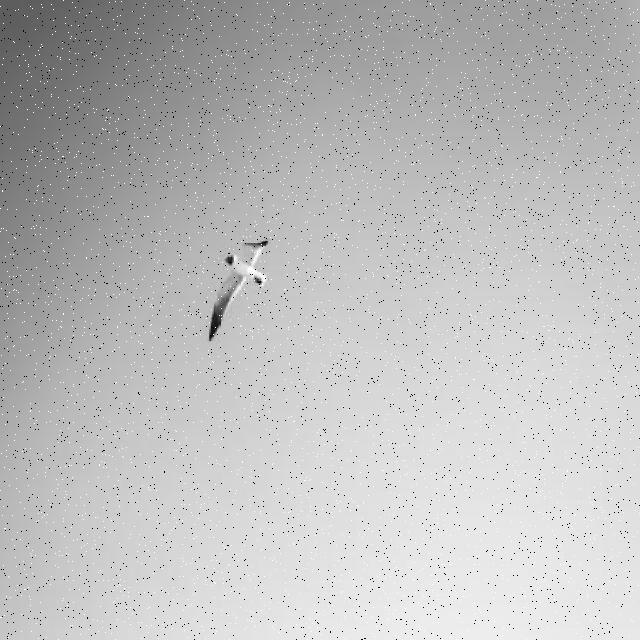bird: (208, 238, 268, 344)
